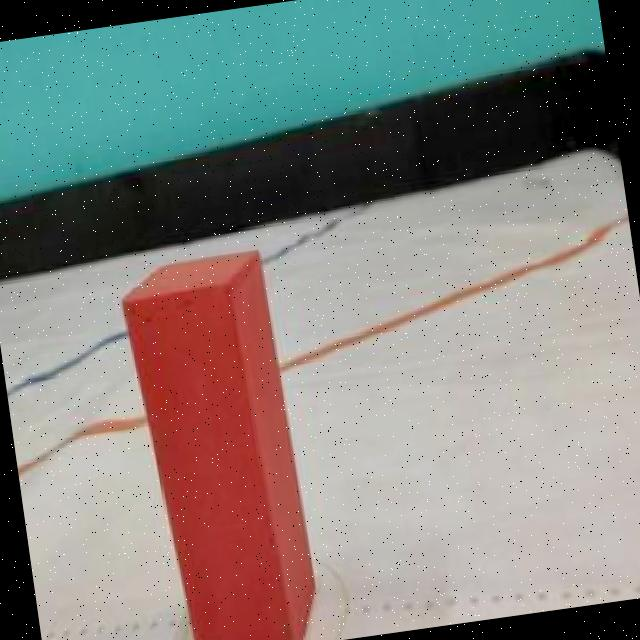redbox: (118, 237, 324, 640)
